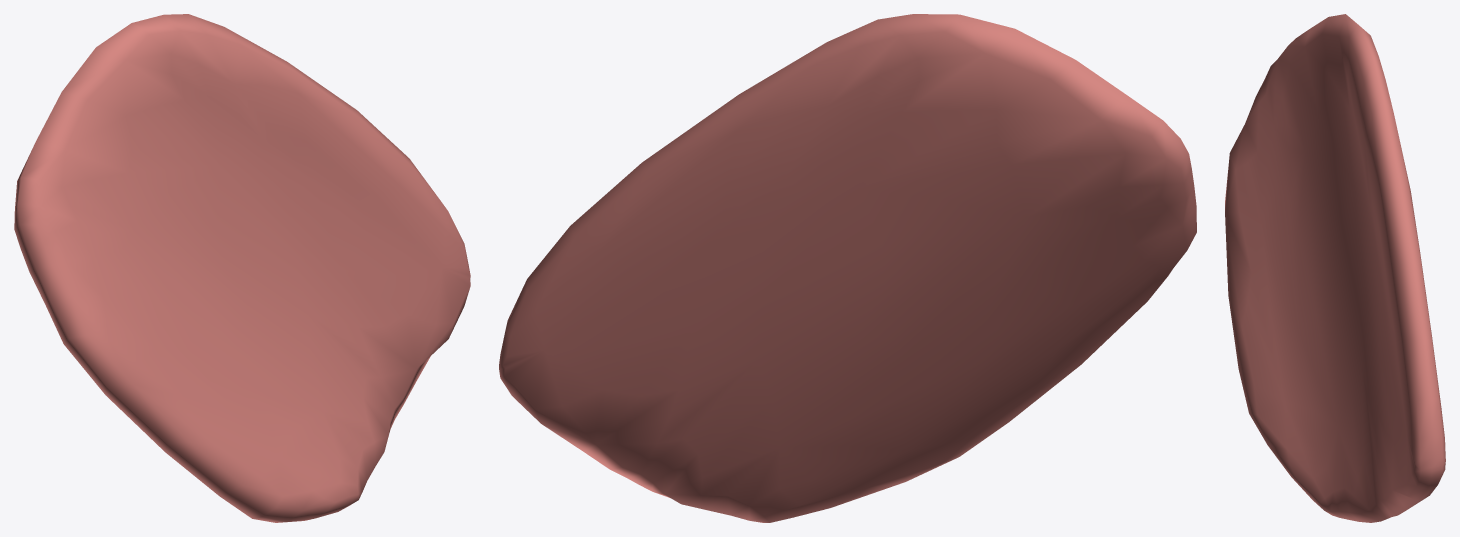
The picture shows the model from 3 angles, left to right: view 1: azimuth 30°, elevation 25°; view 2: azimuth 150°, elevation 25°; view 3: azimuth 270°, elevation 25°; orthographic projection. The views are drawn at different scales.
Visible parts, largest first — view 1: ZA_142cba10dd082f11; view 2: ZA_142cba10dd082f11; view 3: ZA_142cba10dd082f11.
Boxes of the visible parts, x1=… form: ZA_142cba10dd082f11: x1=14, y1=14, x2=470, y2=522; ZA_142cba10dd082f11: x1=499, y1=14, x2=1196, y2=522; ZA_142cba10dd082f11: x1=1225, y1=14, x2=1445, y2=522.
Size of the model in its own units: 0.00732 by 0.00678 by 0.00326.
